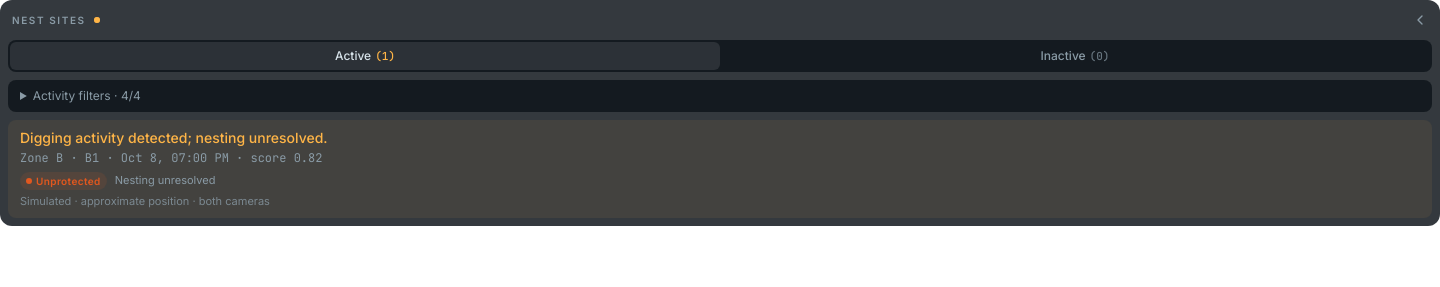
Scenario: AlertsFeed › shows an empty state per tab
Click the radio button labelled "Inactive (0)" at (1075, 56), box [720,42,1430,70]
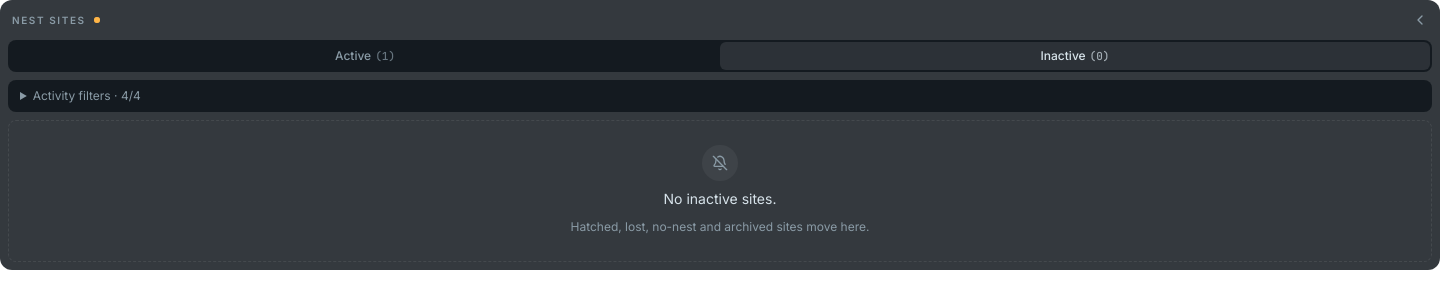
Expected: the text "No inactive sites." is shown, [664,189,776,209]
